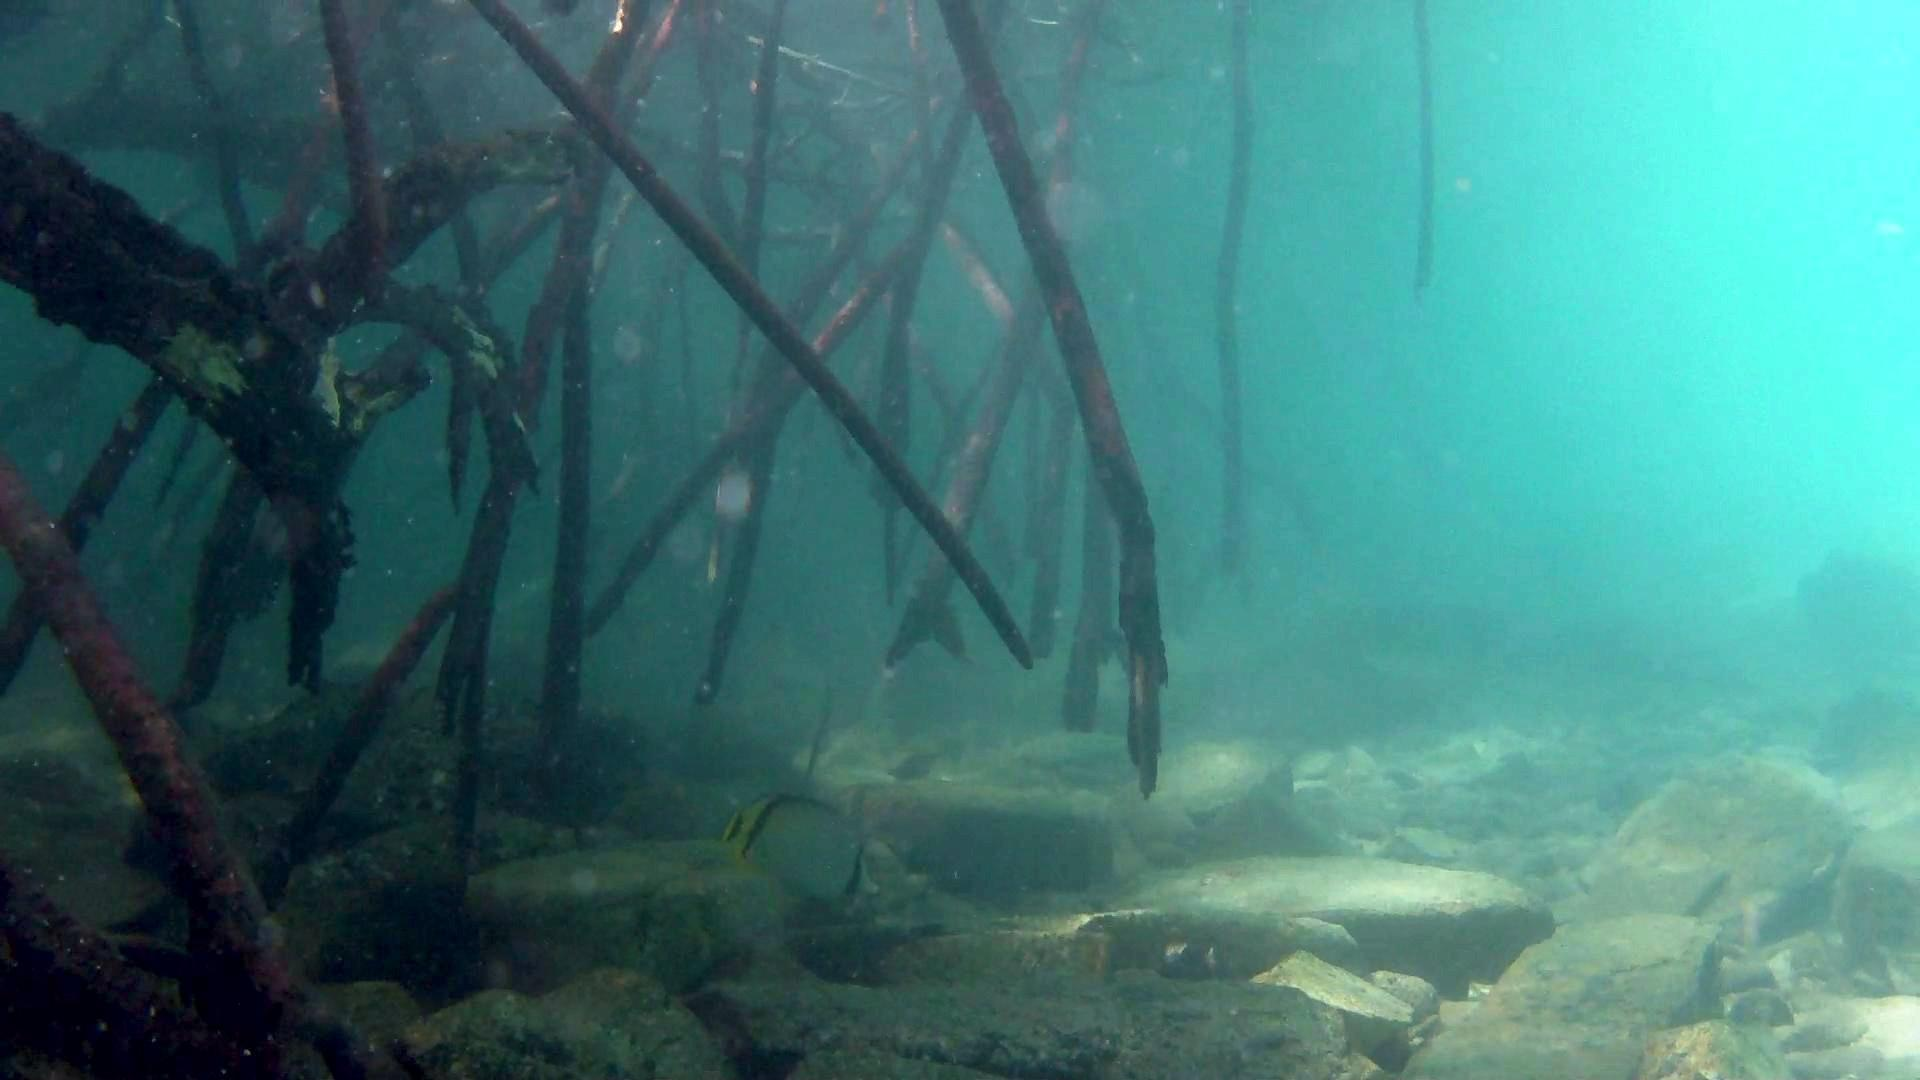chaetodon vagabundus: (715, 789, 885, 910)
